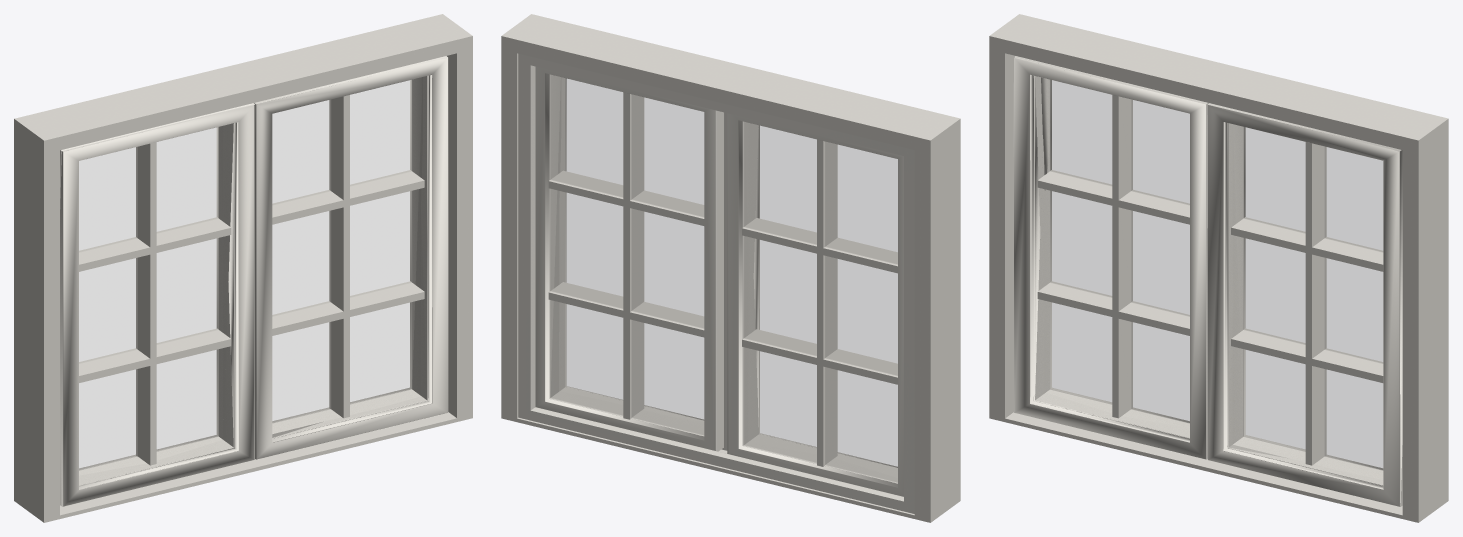
Rendered from wide_window.obj.
The picture shows the model from 3 angles, left to right: view 1: azimuth 30°, elevation 25°; view 2: azimuth 150°, elevation 25°; view 3: azimuth 330°, elevation 25°; orthographic projection.
Visible parts, largest first — view 1: 16639_12_Pane_Casement_Window-White_V1; view 2: 16639_12_Pane_Casement_Window-White_V1; view 3: 16639_12_Pane_Casement_Window-White_V1.
Part boxes in pixels (<box>): 16639_12_Pane_Casement_Window-White_V1: <box>14,14,472,522</box>; 16639_12_Pane_Casement_Window-White_V1: <box>501,14,960,522</box>; 16639_12_Pane_Casement_Window-White_V1: <box>989,14,1448,522</box>.
Bounding box in the file's own units: 1.91 × 1.63 × 0.2334.
3 materials, 3 textured.
